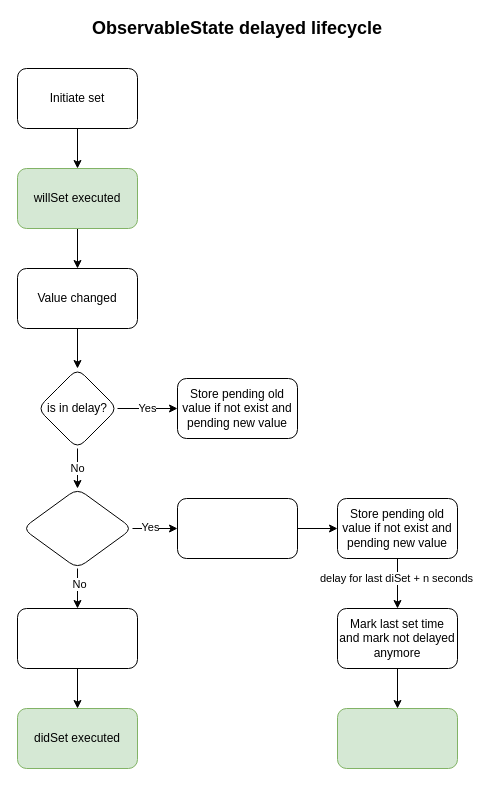
Image size: 490x786. Some labels were removed from this diagram. The shapes that lost their labels are listed below. From the top down, each one's centre as x and y in pixels, then its label:
At point (77, 528): "is last didSet is under n seconds".
At point (237, 528): "mark as delayed".
At point (77, 638): "Mark last set time".
At point (397, 738): "didSet executed with pending old value and pending new value".
